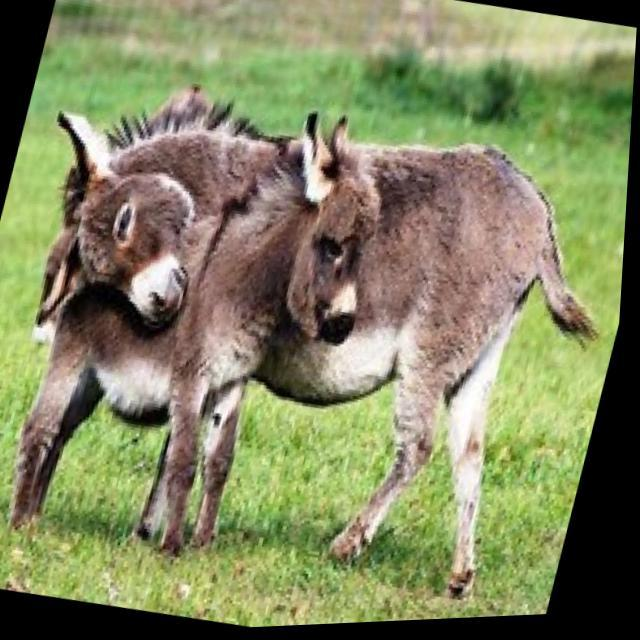Donkey: (0, 51, 637, 639), (0, 56, 333, 574)
